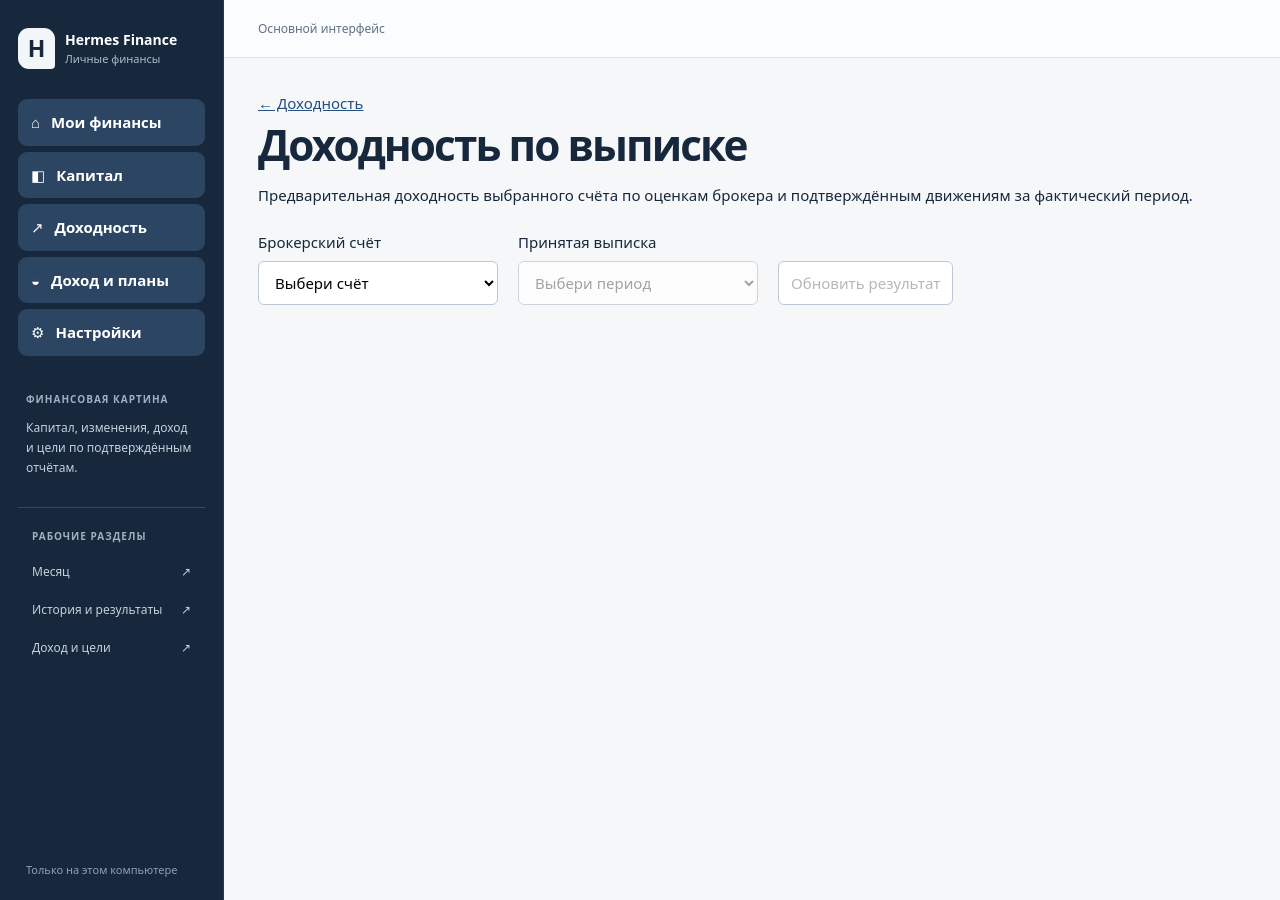
rejects wrong account, period, endpoint and annualization responses
Select "Synthetic A" in the dropdown labelled "Брокерский счёт" at (378, 283), box [258, 261, 498, 305]
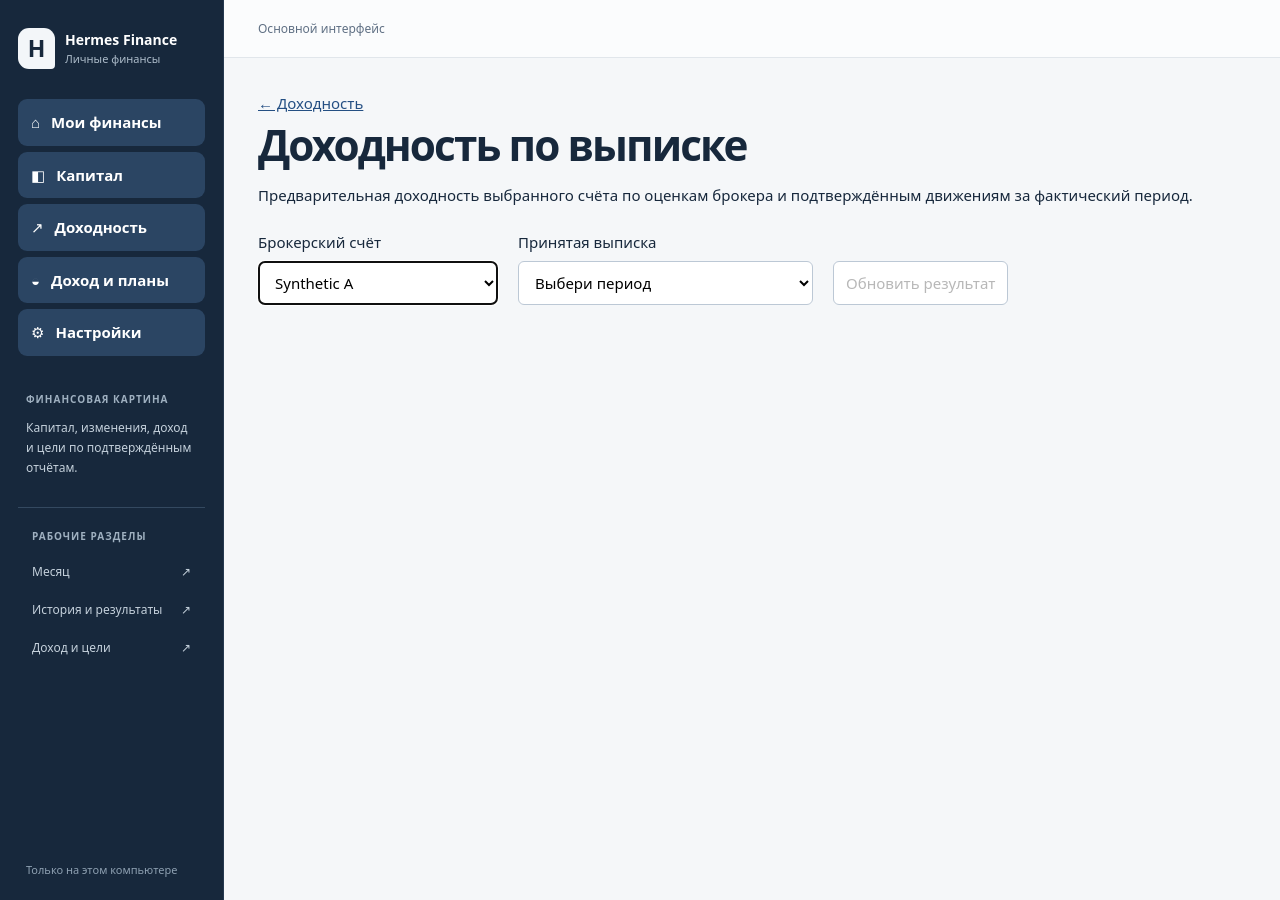
Expected: the dropdown labelled "Принятая выписка" is enabled
Select "31.08.2026 — 30.09.2026 · source-1" in the dropdown labelled "Принятая выписка" at (666, 283), box [518, 261, 813, 305]
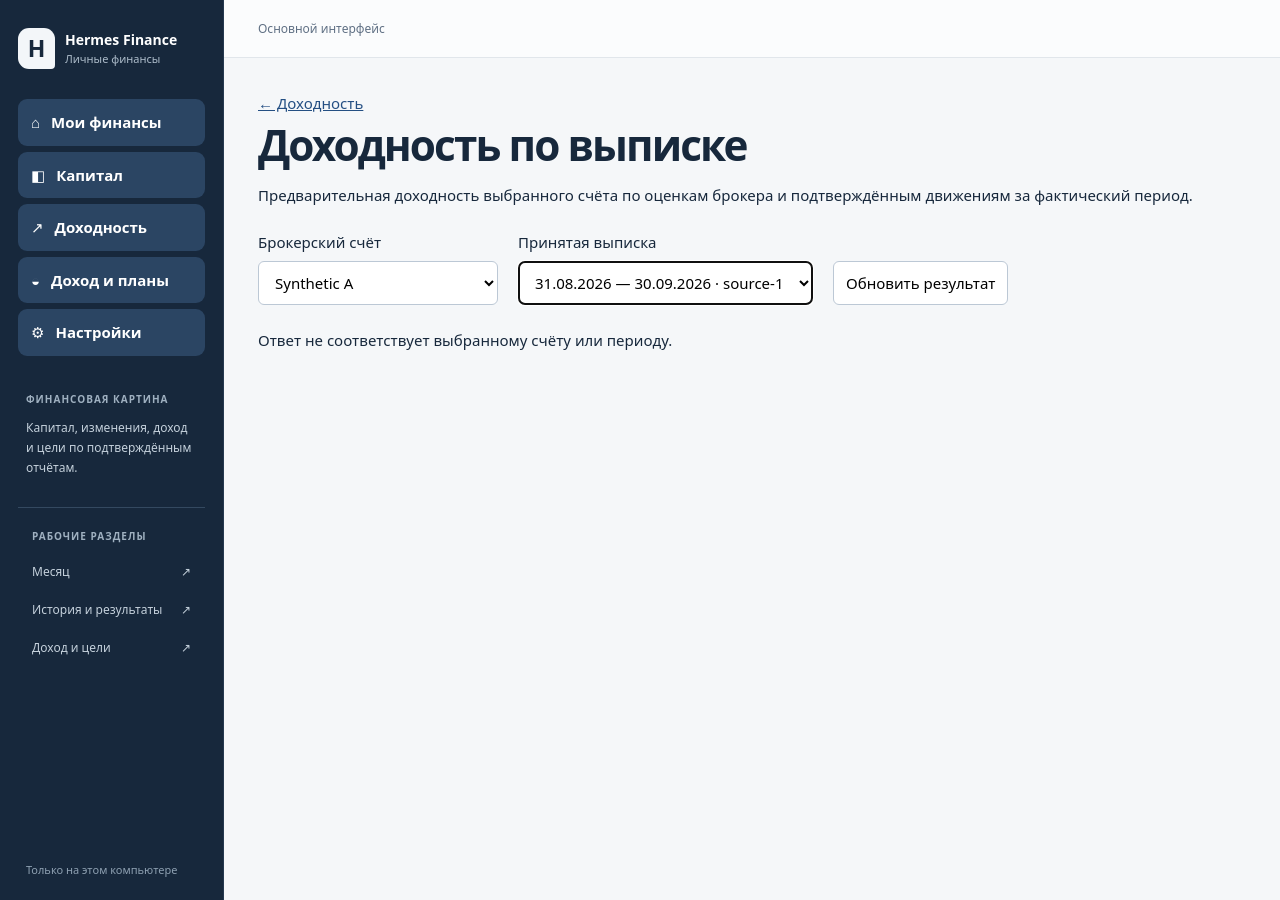
Expected: the message shows "Ответ не соответствует", [258, 330, 672, 350]
